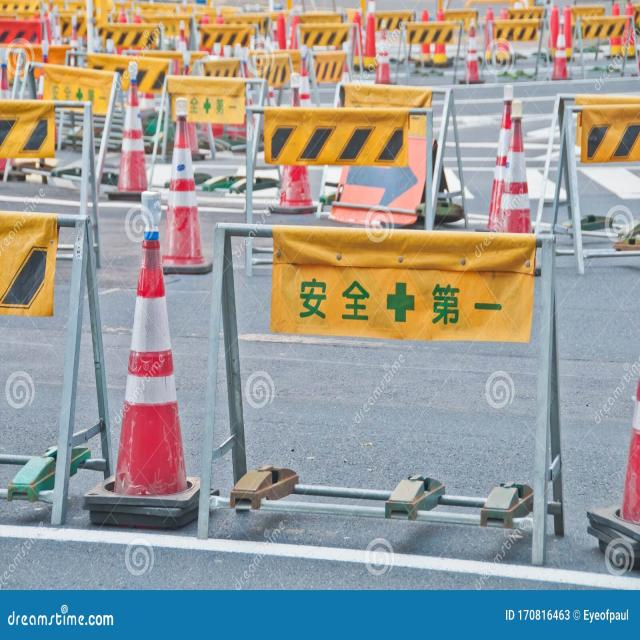cone: (197, 220, 566, 564)
